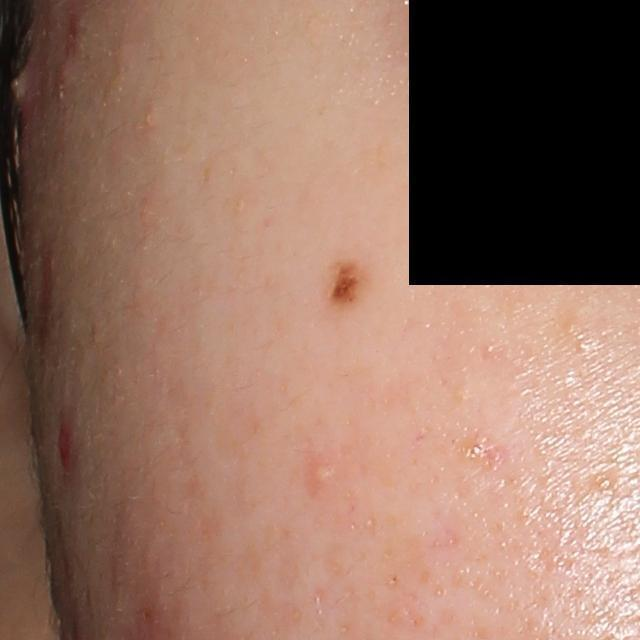nevus: (323, 254, 373, 311)
papule: (51, 418, 76, 470)
pustule: (304, 457, 337, 492)
